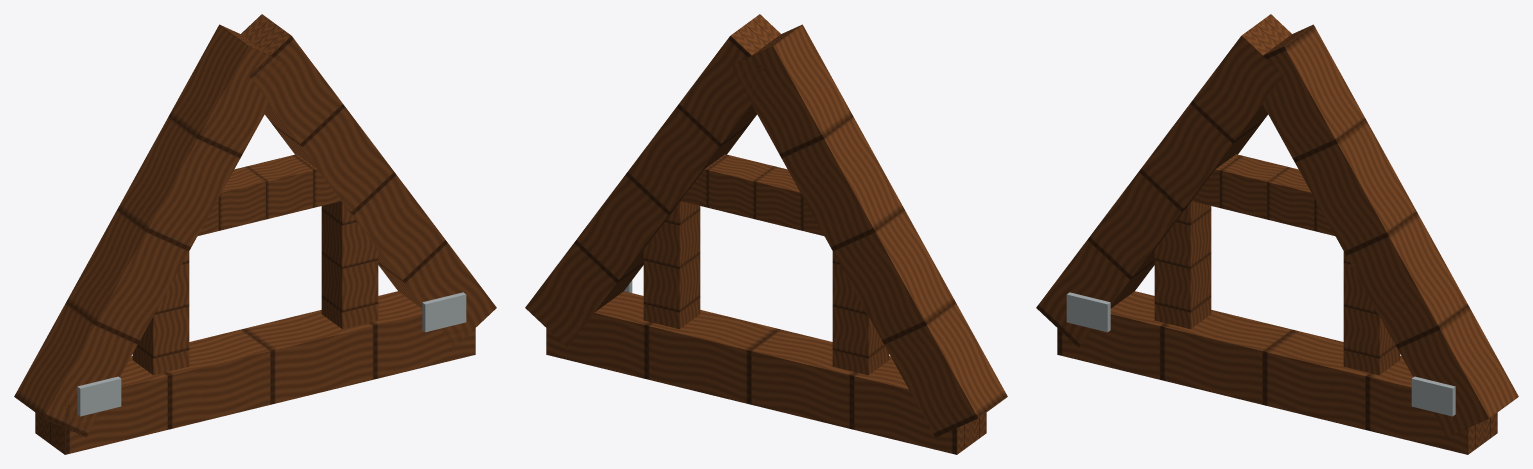
Rendered from prehistoric-survivor-settlement-gate-counterweight-fra-23f566d7__23227.glb.
3 renders of one model, left to right at view 1: azimuth 30°, elevation 25°; view 2: azimuth 150°, elevation 25°; view 3: azimuth 330°, elevation 25°, orthographic.
Parts seen in each view (by area): view 1: gate-counterweight-frame; view 2: gate-counterweight-frame; view 3: gate-counterweight-frame.
Part boxes in pixels (x1,y1,x2,y2): gate-counterweight-frame: [14, 14, 496, 454]; gate-counterweight-frame: [525, 14, 1007, 454]; gate-counterweight-frame: [1036, 14, 1518, 454].
Size of the model in its own units: 2.21 by 1.69 by 0.2749.
2 materials, 1 textured.
